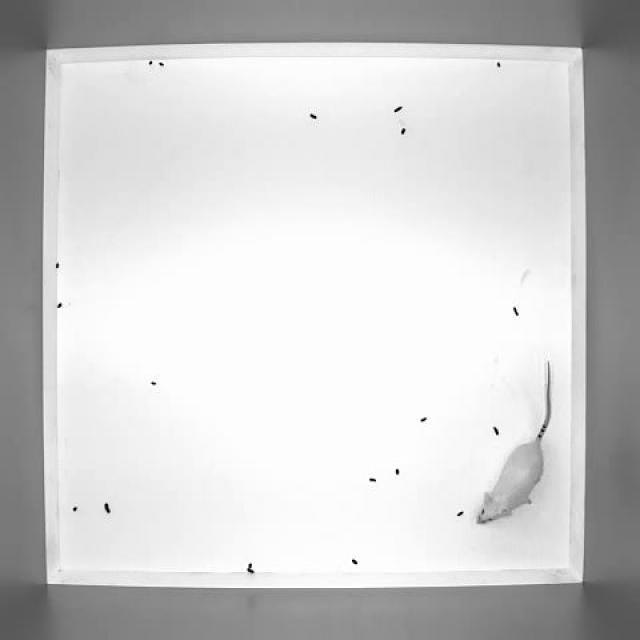rat: (483, 351, 564, 531)
